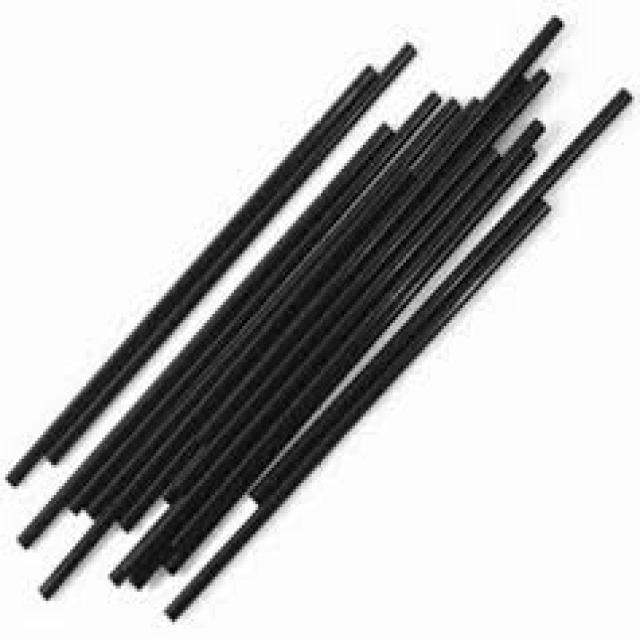plastic: (26, 0, 428, 444)
